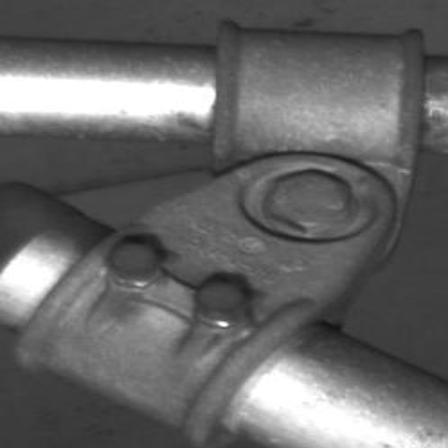nut2: (266, 172, 356, 238)
screw2: (195, 274, 255, 325), (109, 234, 168, 283)
